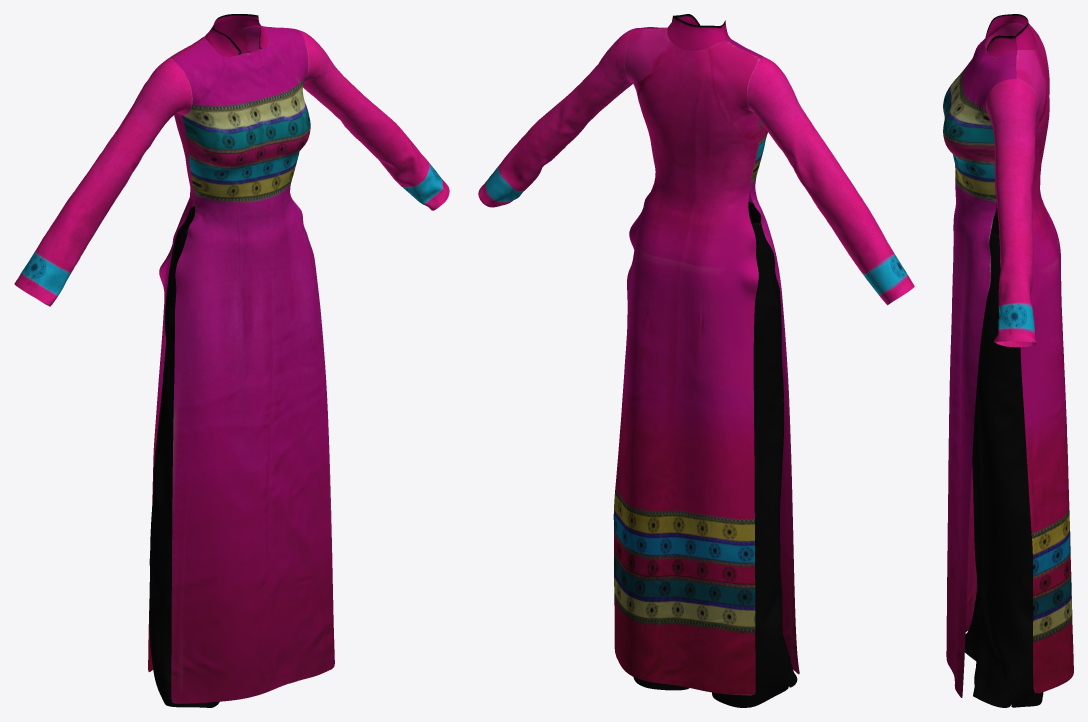
Rendered from ao_dai.glb.
3 views of the same model, side by side, from view 1: azimuth 30°, elevation 25°; view 2: azimuth 150°, elevation 25°; view 3: azimuth 270°, elevation 25° (orthographic).
Parts seen in each view (by area): view 1: g; view 2: g; view 3: g.
Boxes of the visible parts, bbox=[...] form: g: bbox=[14, 14, 449, 707]; g: bbox=[478, 14, 914, 707]; g: bbox=[943, 14, 1073, 707].
Bounding box in the file's own units: 1 × 1.49 × 0.2678.
1 material, 1 textured.
